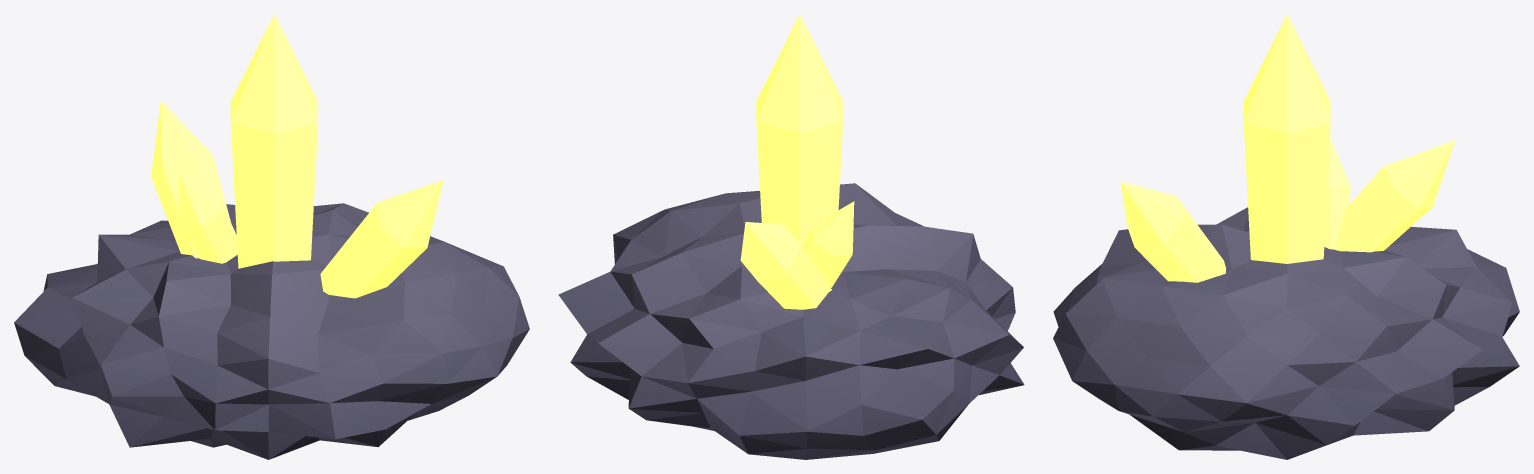
The model's file is crystal_gold.glb.
3 renders of one model, left to right at view 1: azimuth 30°, elevation 25°; view 2: azimuth 150°, elevation 25°; view 3: azimuth 270°, elevation 25°, orthographic.
Visible parts, largest first — view 1: crystal_gold; view 2: crystal_gold; view 3: crystal_gold.
Part boxes in pixels (bbox=[...]): crystal_gold: bbox=[14, 14, 529, 459]; crystal_gold: bbox=[558, 14, 1024, 459]; crystal_gold: bbox=[1053, 14, 1519, 459].
Bounding box in the file's own units: 1.08 × 1 × 1.09.
